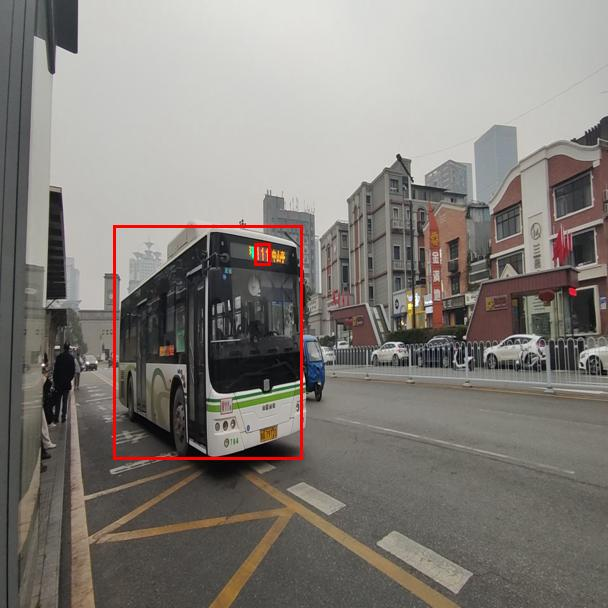bus: (113, 225, 302, 459)
screen: (254, 243, 270, 265)
